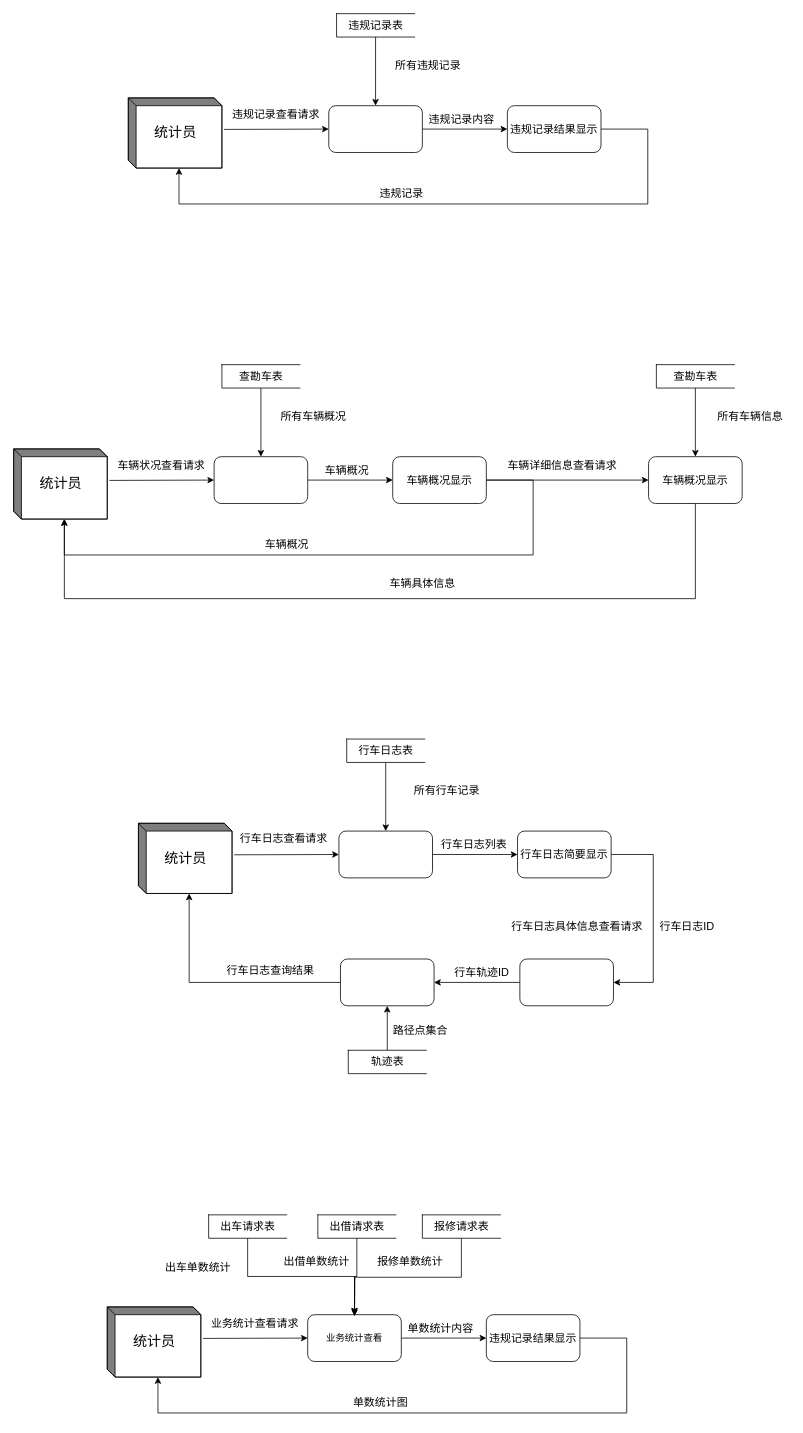
Some shapes in this 803 by 1433 pixel diagram are drawn without their labels. The box of each missing label's shape, as (x1, y1, x2, y2) in pixels:
行车日志内容显示: (519, 958, 613, 1006)
行车日志查询: (338, 830, 433, 878)
行车日志轨迹复现: (340, 958, 434, 1006)
车辆状况查询: (213, 456, 308, 503)
违规记录查询: (328, 105, 422, 152)
